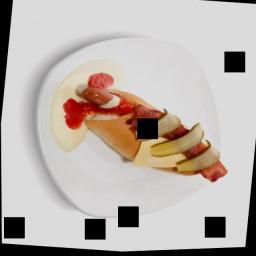hotdog: (70, 63, 246, 196)
